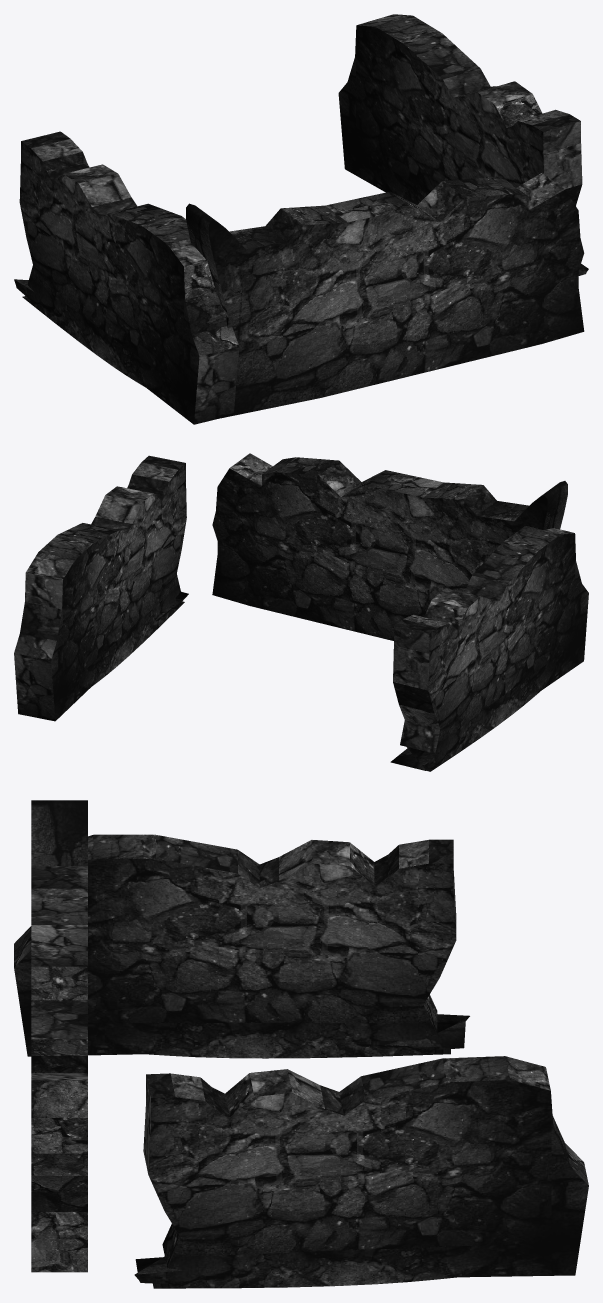
Rendered from RuinD.FBX.
The picture shows the model from 3 angles, top to bottom: view 1: azimuth 30°, elevation 25°; view 2: azimuth 150°, elevation 25°; view 3: azimuth 270°, elevation 25°; orthographic projection. The views are drawn at different scales.
Parts seen in each view (by area): view 1: Line001, Line002, Line003; view 2: Line001, Line002, Line003; view 3: Line003, Line002, Line001.
Part boxes in pixels (x1,y1,x2,y2): Line001: (186, 173, 584, 418); Line002: (14, 131, 239, 424); Line003: (338, 14, 588, 275); Line001: (212, 453, 567, 640); Line002: (390, 526, 588, 771); Line003: (14, 455, 188, 721); Line003: (134, 1056, 588, 1288); Line002: (14, 834, 469, 1058); Line001: (31, 800, 87, 1272).
Size of the model in its own units: 198 by 88.17 by 183.
1 material, 1 textured.
